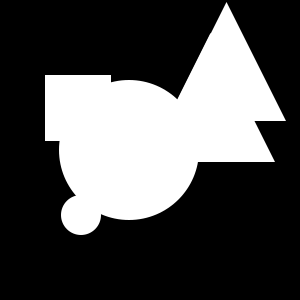circle: (45, 75, 111, 141)
rectangle: (59, 80, 199, 220), (61, 195, 101, 235)
triangle: (146, 33, 275, 162), (167, 2, 286, 121)
